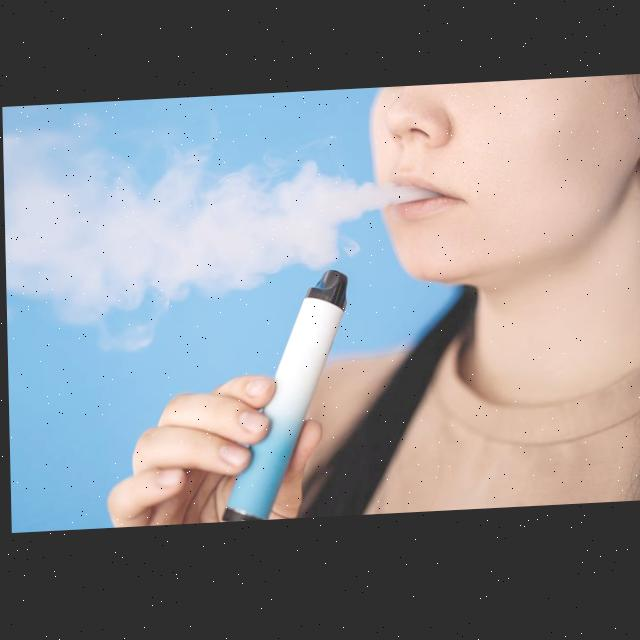vape: (224, 273, 353, 524)
